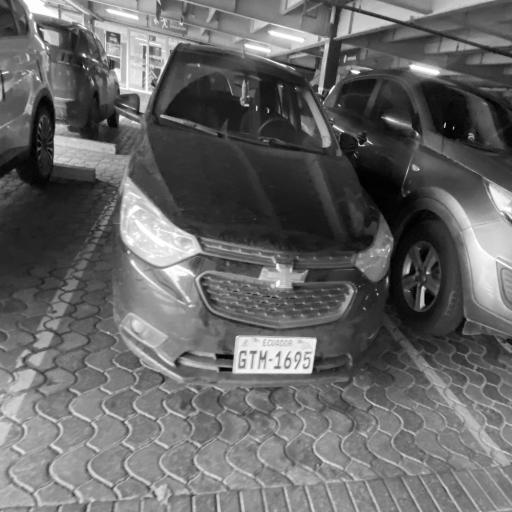license_plate: (233, 336, 316, 374)
